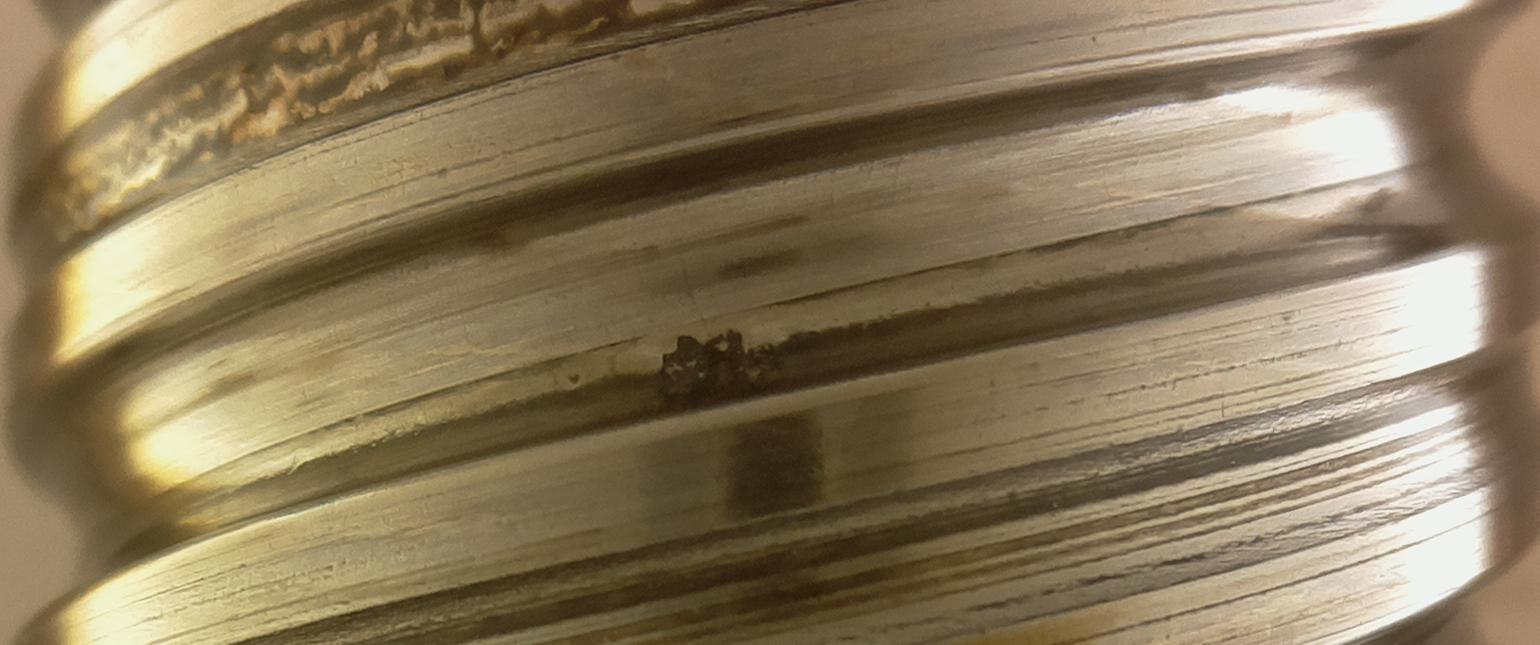pitting: (655, 329, 783, 416)
